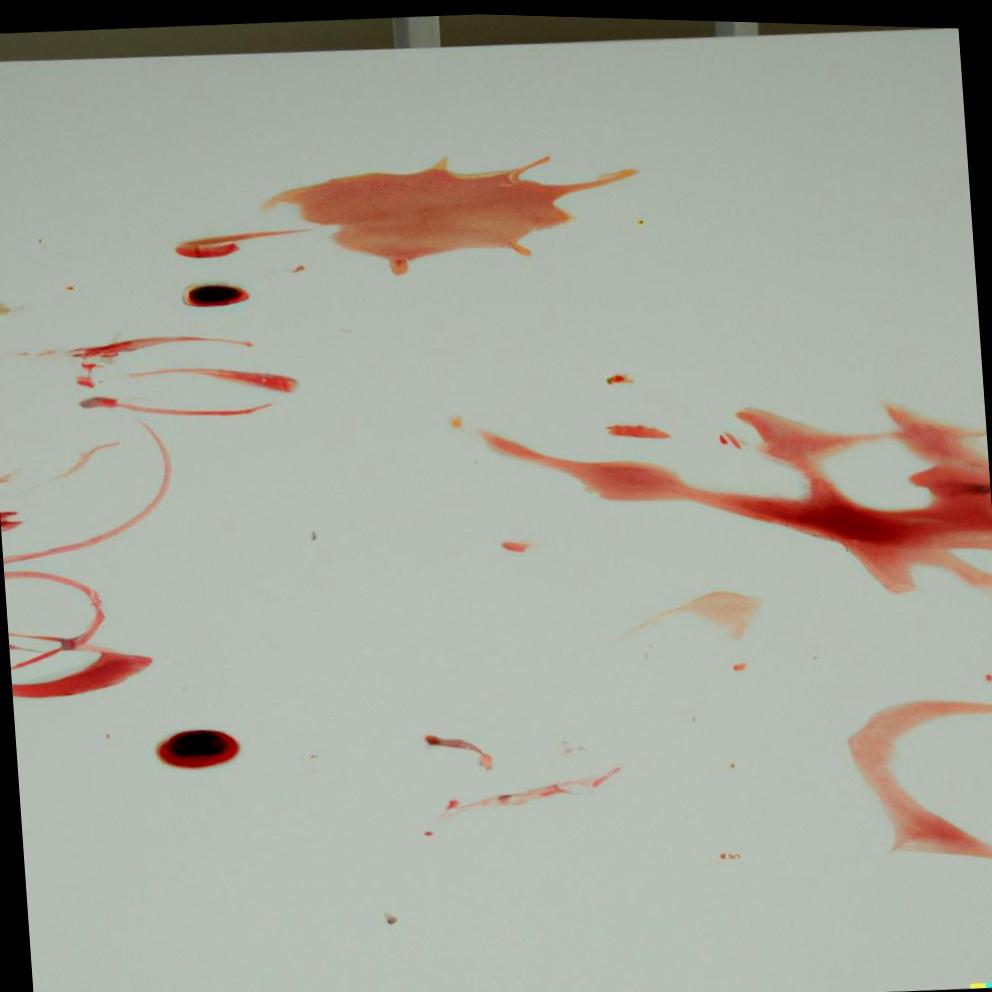Fire: (156, 729, 240, 768), (182, 282, 251, 307)
